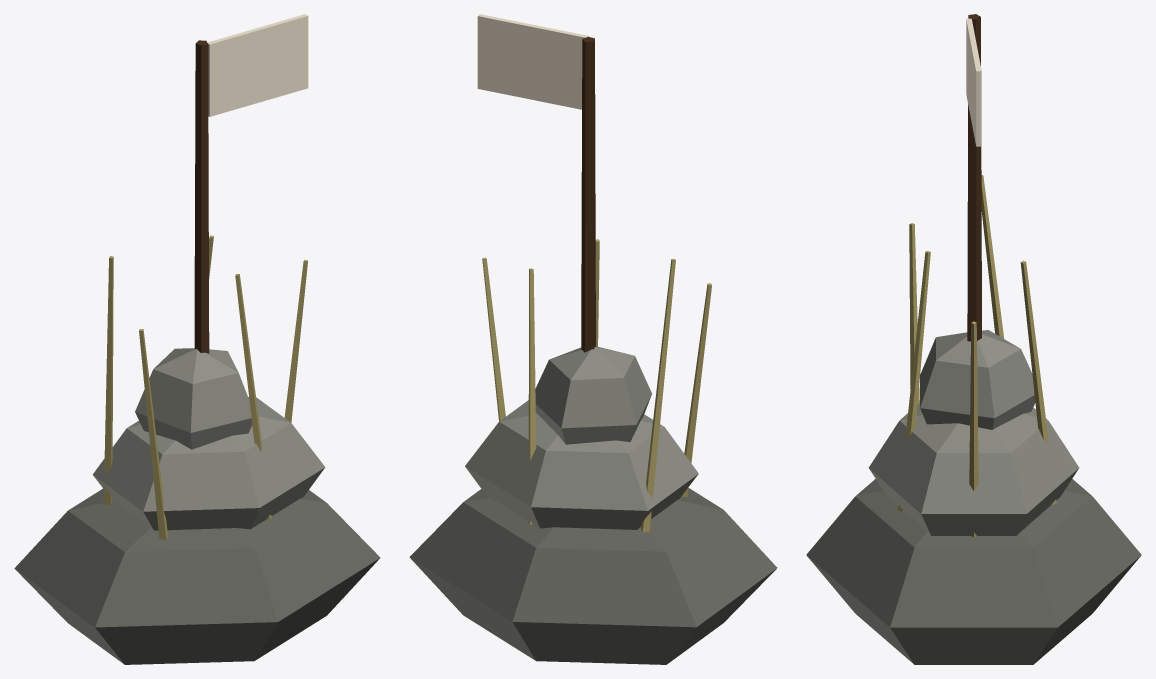
Rendered from prop_flood_marker.glb.
3 renders of one model, left to right at view 1: azimuth 30°, elevation 25°; view 2: azimuth 150°, elevation 25°; view 3: azimuth 270°, elevation 25°, orthographic. The views are drawn at different scales.
Parts seen in each view (by area): view 1: prop_flood_marker; view 2: prop_flood_marker; view 3: prop_flood_marker.
Part boxes in pixels (x1,y1,x2,y2): prop_flood_marker: (14,14,380,664); prop_flood_marker: (409,14,777,664); prop_flood_marker: (806,14,1141,664).
Size of the model in its own units: 1.24 by 2.48 by 1.21.
